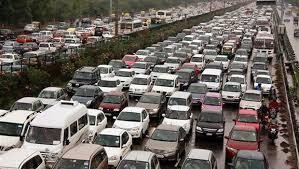AMBULANCE: (22, 96, 91, 160)
